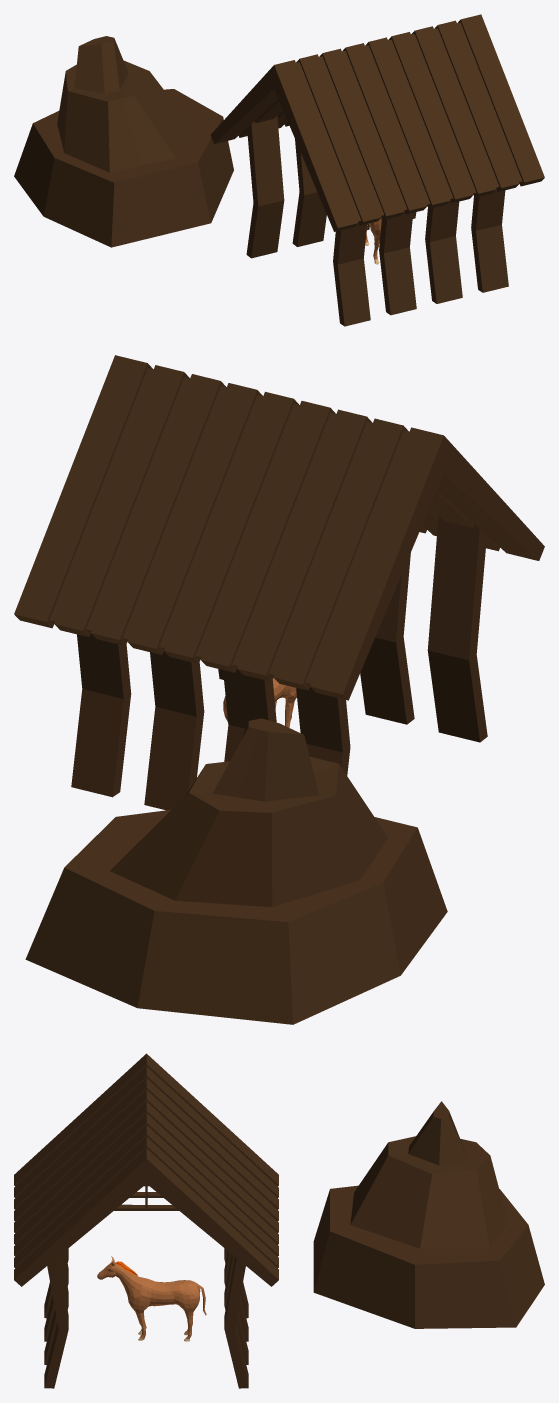
The model's file is Western city Sahne sonu at.fbx.
The picture shows the model from 3 angles, top to bottom: view 1: azimuth 30°, elevation 25°; view 2: azimuth 150°, elevation 25°; view 3: azimuth 270°, elevation 25°; orthographic projection. The views are drawn at different scales.
Visible parts, largest first — view 1: Plane.006, Plane.005; view 2: Plane.006, Plane.005; view 3: Plane.006, Plane.005, 10665_Horse_v2.
Part boxes in pixels (left/top/right/bottom): Plane.006: left=210, top=14, right=544, bottom=326; Plane.005: left=14, top=36, right=233, bottom=247; Plane.006: left=14, top=355, right=544, bottom=810; Plane.005: left=25, top=718, right=447, bottom=1024; Plane.006: left=14, top=1053, right=278, bottom=1388; Plane.005: left=313, top=1101, right=544, bottom=1328; 10665_Horse_v2: left=97, top=1256, right=206, bottom=1341.
Bounding box in the file's own units: 3.66 × 2.62 × 5.24.
